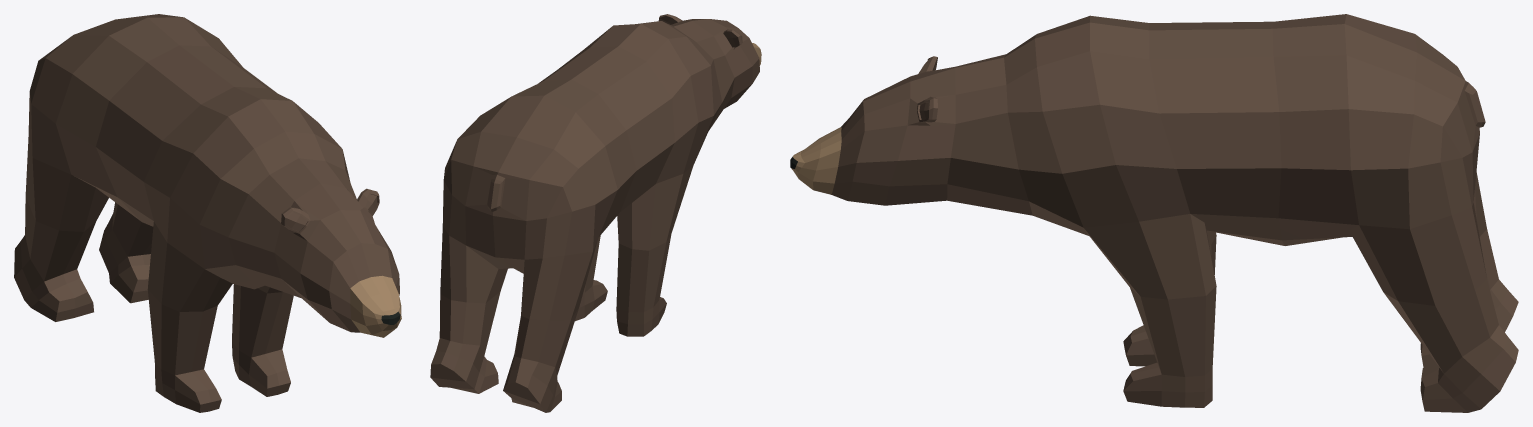
Rendered from bear-pale-muzzle.glb.
The picture shows the model from 3 angles, left to right: view 1: azimuth 30°, elevation 25°; view 2: azimuth 150°, elevation 25°; view 3: azimuth 270°, elevation 25°; orthographic projection. The views are drawn at different scales.
Visible parts, largest first — view 1: bear-pale-muzzle runtime mesh; view 2: bear-pale-muzzle runtime mesh; view 3: bear-pale-muzzle runtime mesh.
Part boxes in pixels (x1,y1,x2,y2): bear-pale-muzzle runtime mesh: [14, 14, 401, 412]; bear-pale-muzzle runtime mesh: [430, 14, 761, 412]; bear-pale-muzzle runtime mesh: [790, 14, 1518, 412].
Bounding box in the file's own units: 0.731 × 1.25 × 2.3.
Materials: 1 (1 with a texture image).
